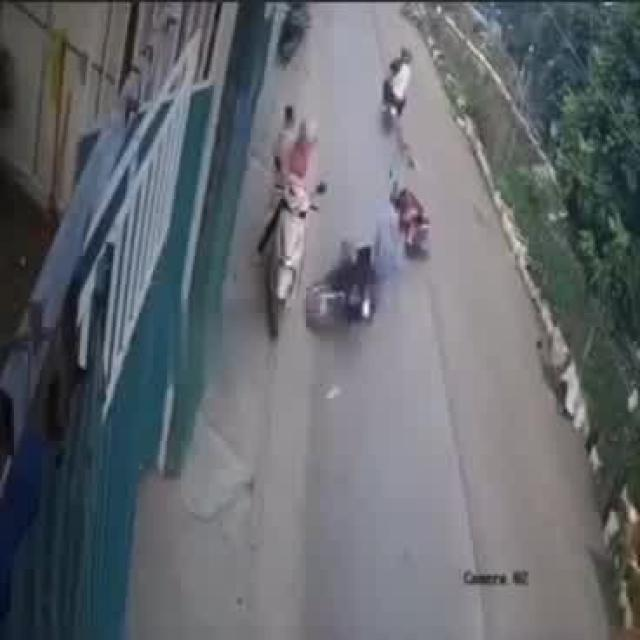multiple_accident: (299, 164, 437, 345)
normal: (370, 37, 426, 143)
